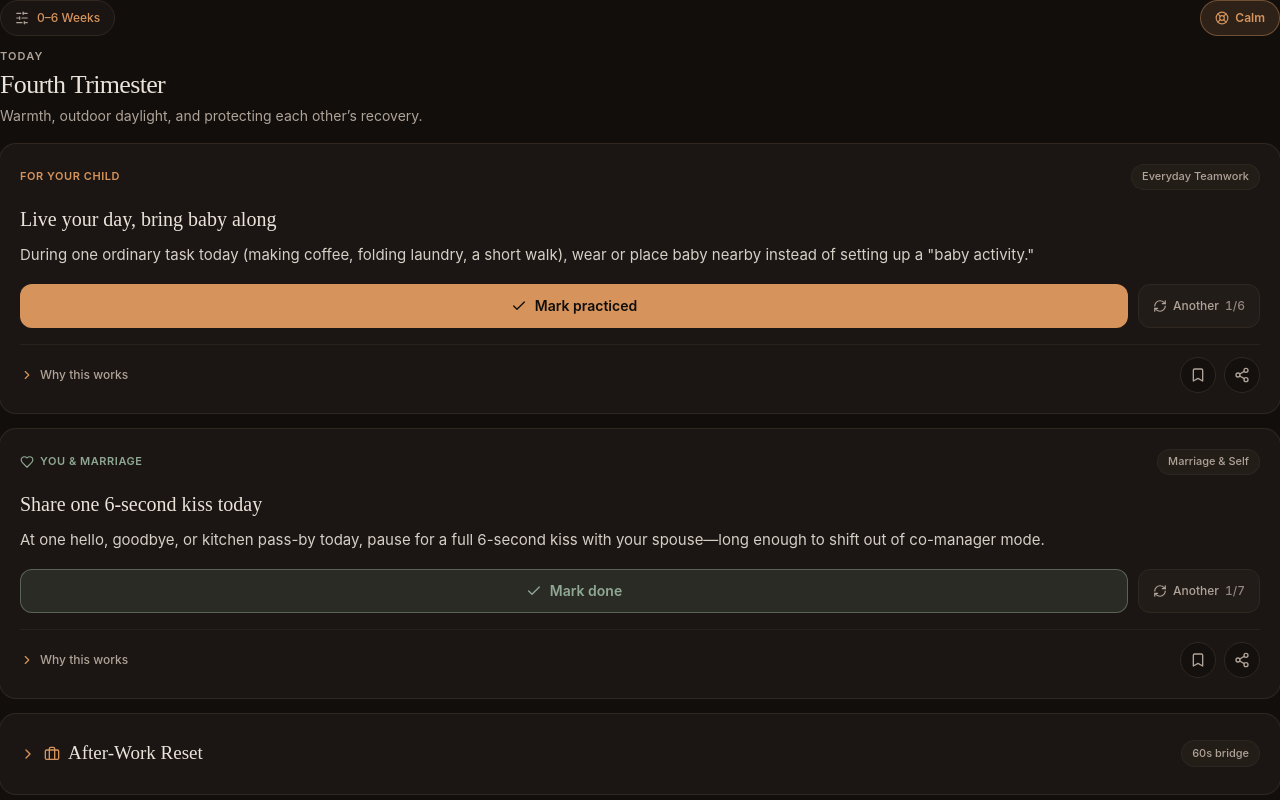
Test case: TodayView › rotates kid and marriage cards independently from 1/N when tapping "Another"
This screenshot has width=1280, height=800.
Expected: the button with aria-label "Another kid practice" reads "Another 1/6", [1138,284,1260,328]
Expected: the button with aria-label "Another marriage habit" reads "Another 1/7", [1138,568,1260,612]
Click the button "Mark practiced". click: x=574, y=306
box: [20,284,1128,328]
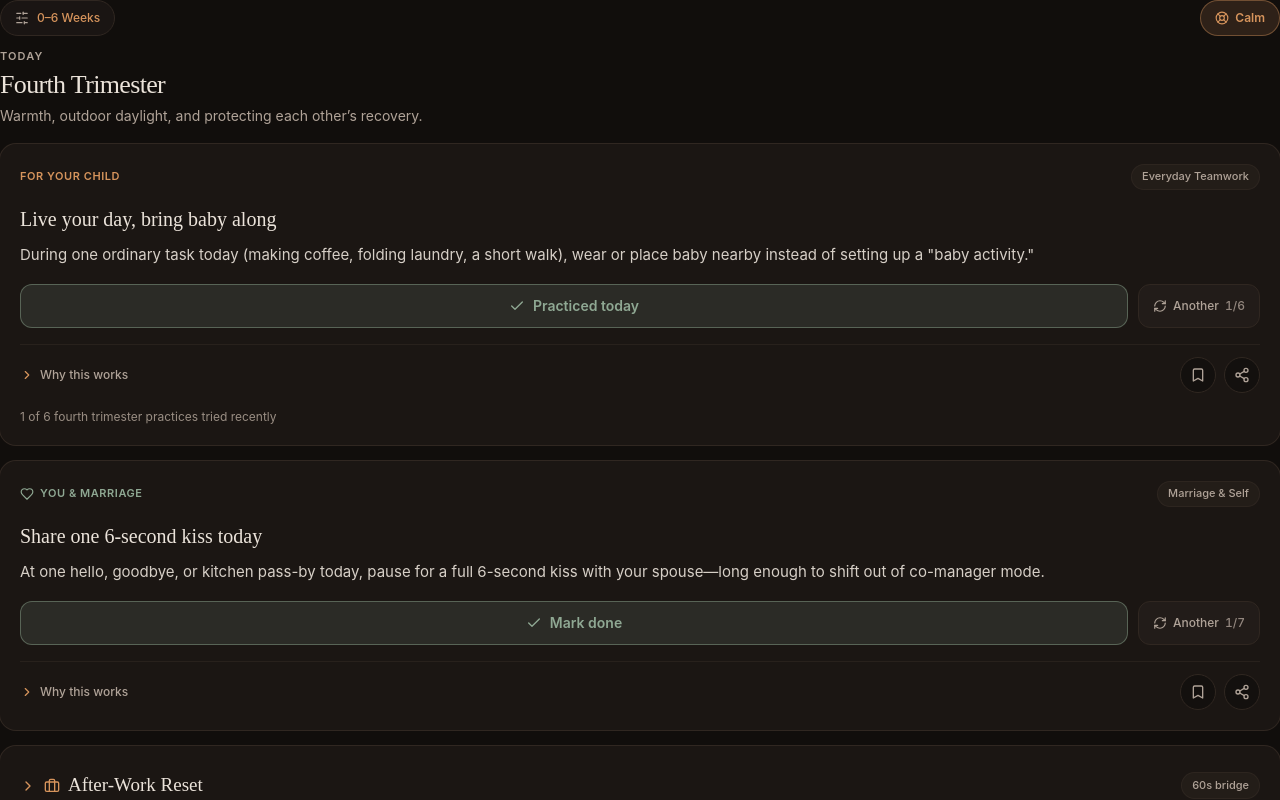
Click the button with aria-label "Another kid practice". click: x=1199, y=306
box: [1138,284,1260,328]
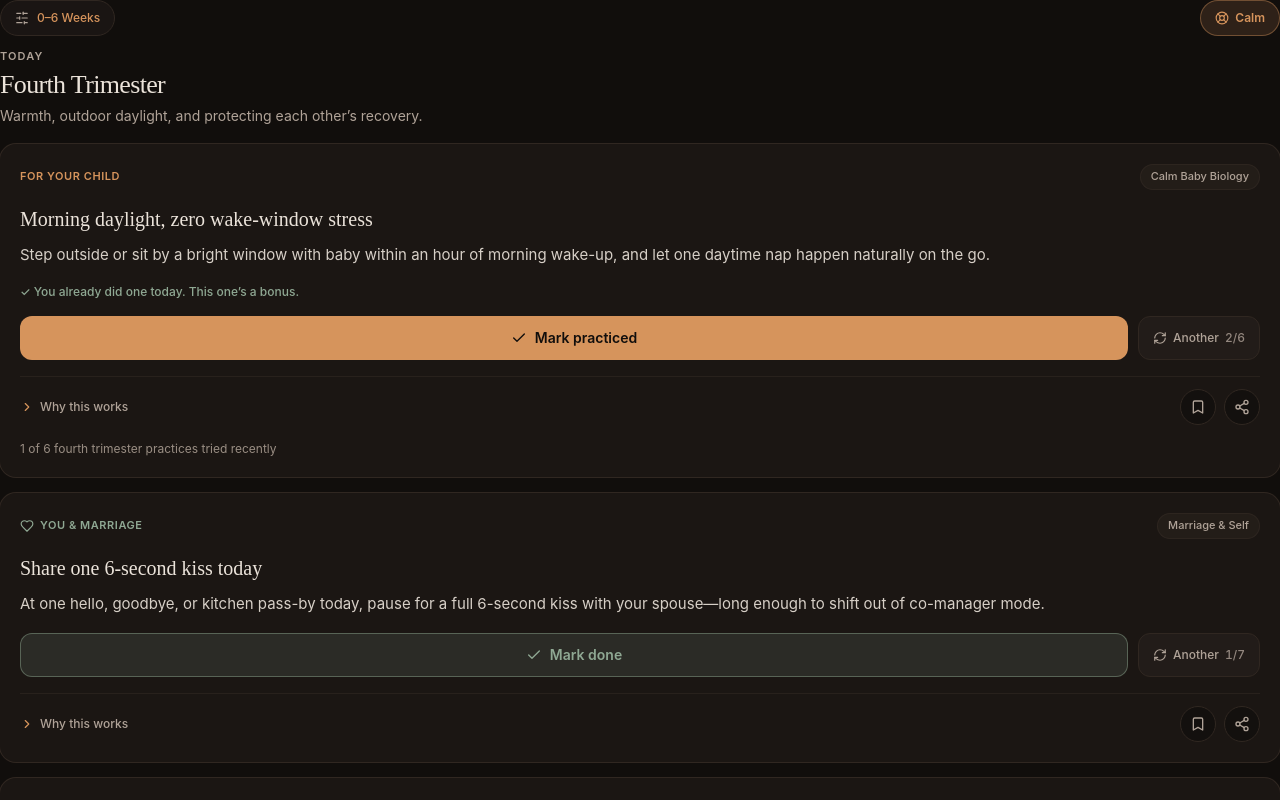
Expected: the heading "Live your day, bring baby along" no longer shows "Live your day, bring baby along"
Expected: the button with aria-label "Another kid practice" reads "Another 2/6", [1138,316,1260,360]
Expected: the text "✓ You already did one today. This one’s a bonus." is shown, [20,284,299,299]
Click the button with aria-label "Another marriage habit". click: x=1199, y=654
box: [1138,632,1260,676]
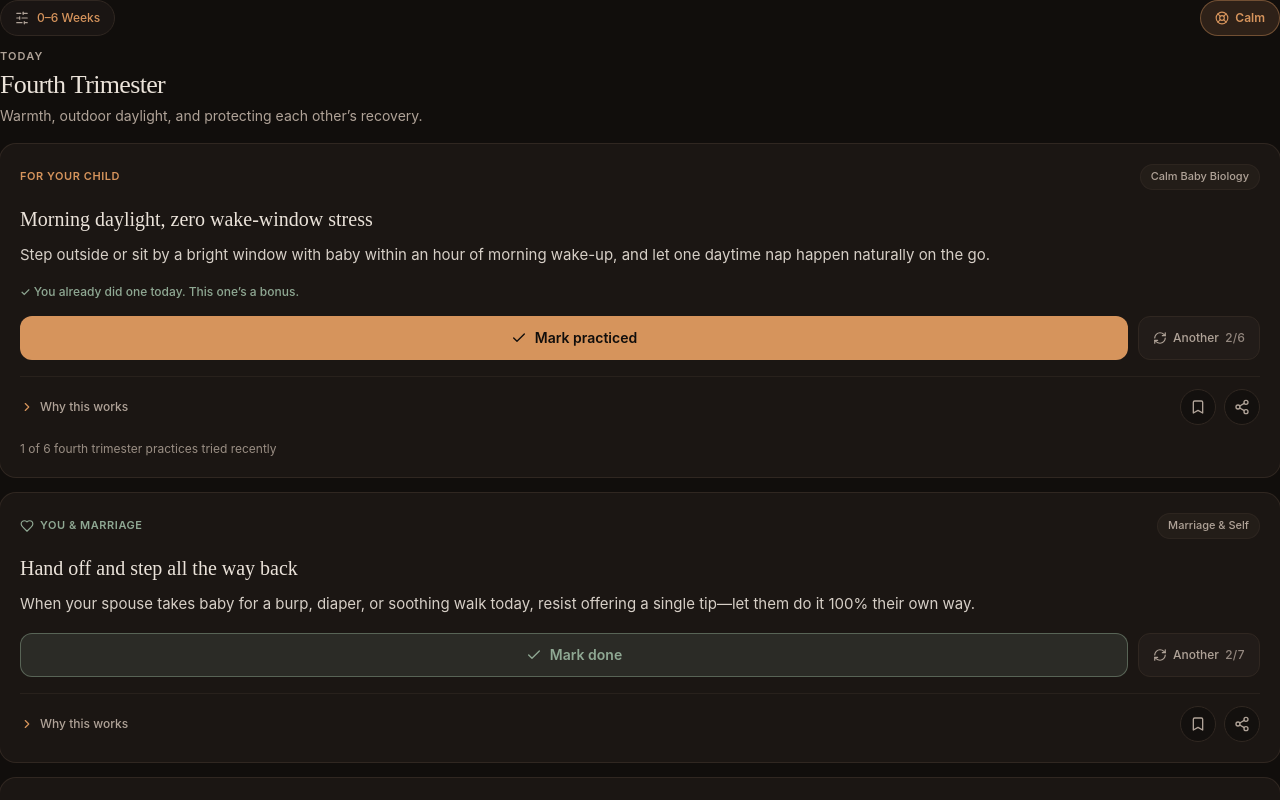
Expected: the heading "Morning daylight, zero wake-window stress" is shown, [20,208,373,230]
Expected: the heading "Share one 6-second kiss today" no longer shows "Share one 6-second kiss today"
Expected: the button with aria-label "Another marriage habit" reads "Another 2/7", [1138,632,1260,676]
